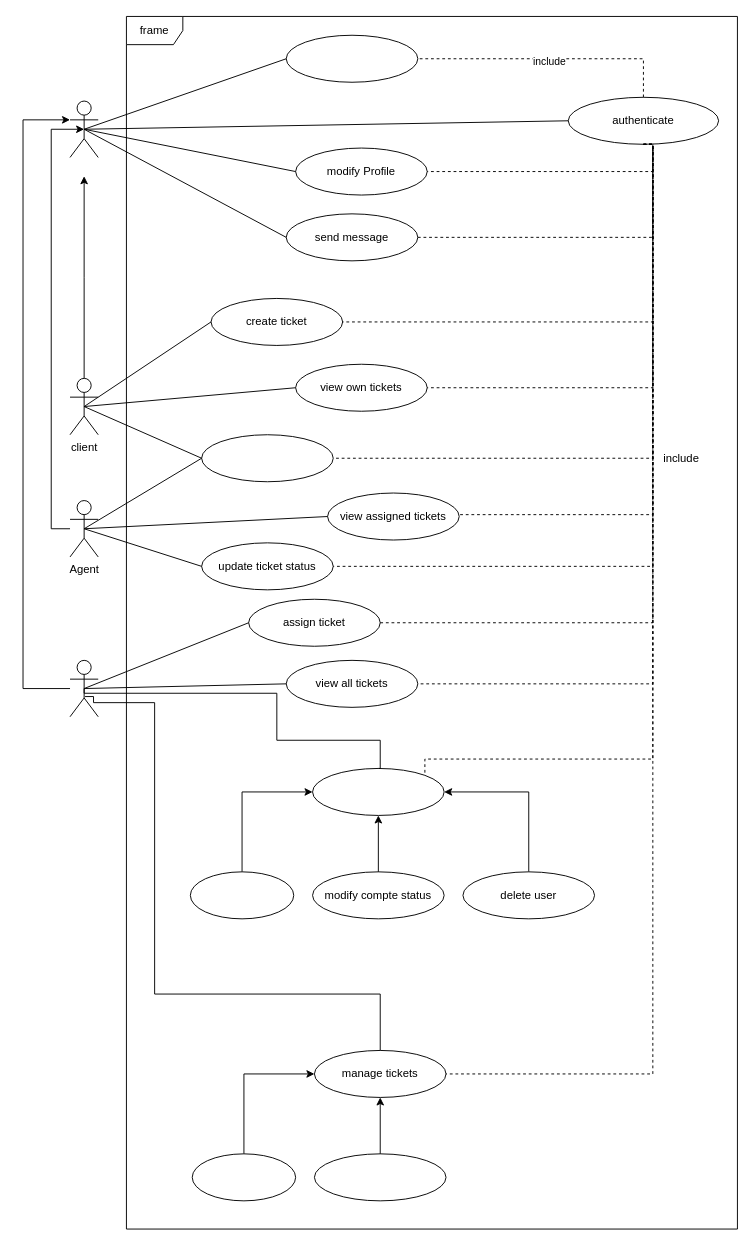
The diagram is 754 pixels wide and 1246 high, and some of its shapes have lost their labels. The shapes that lost their labels are listed below. From the top down, each one's centre as x and y in pixels, then its label:
the point at 351,58: delete Profile
the point at 83,128: user
the point at 267,458: close ticket
the point at 83,688: Admin
the point at 378,791: manage user
the point at 241,895: add user
the point at 243,1177: modify Ticket
the point at 379,1177: delete ticket
